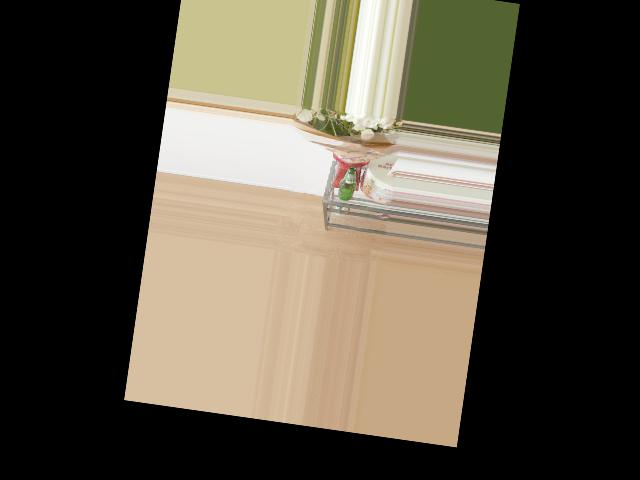beer: (337, 166, 359, 202)
